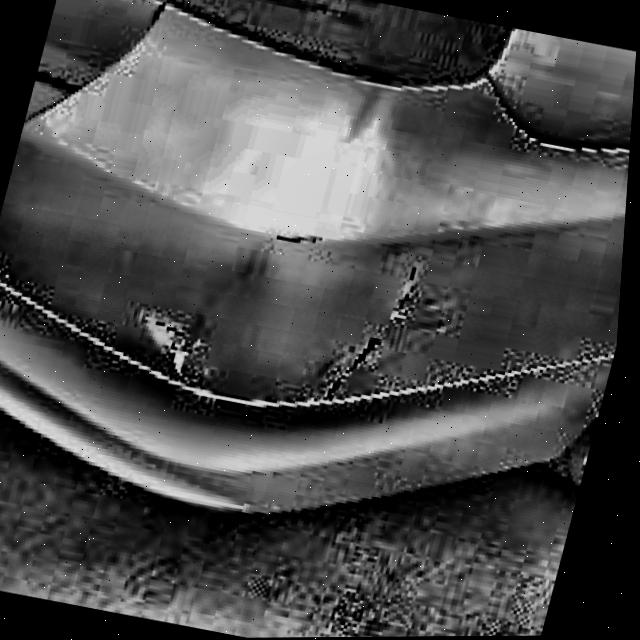bumper_scratch: (303, 249, 435, 422), (106, 301, 245, 418), (253, 215, 340, 259), (0, 246, 39, 321)
